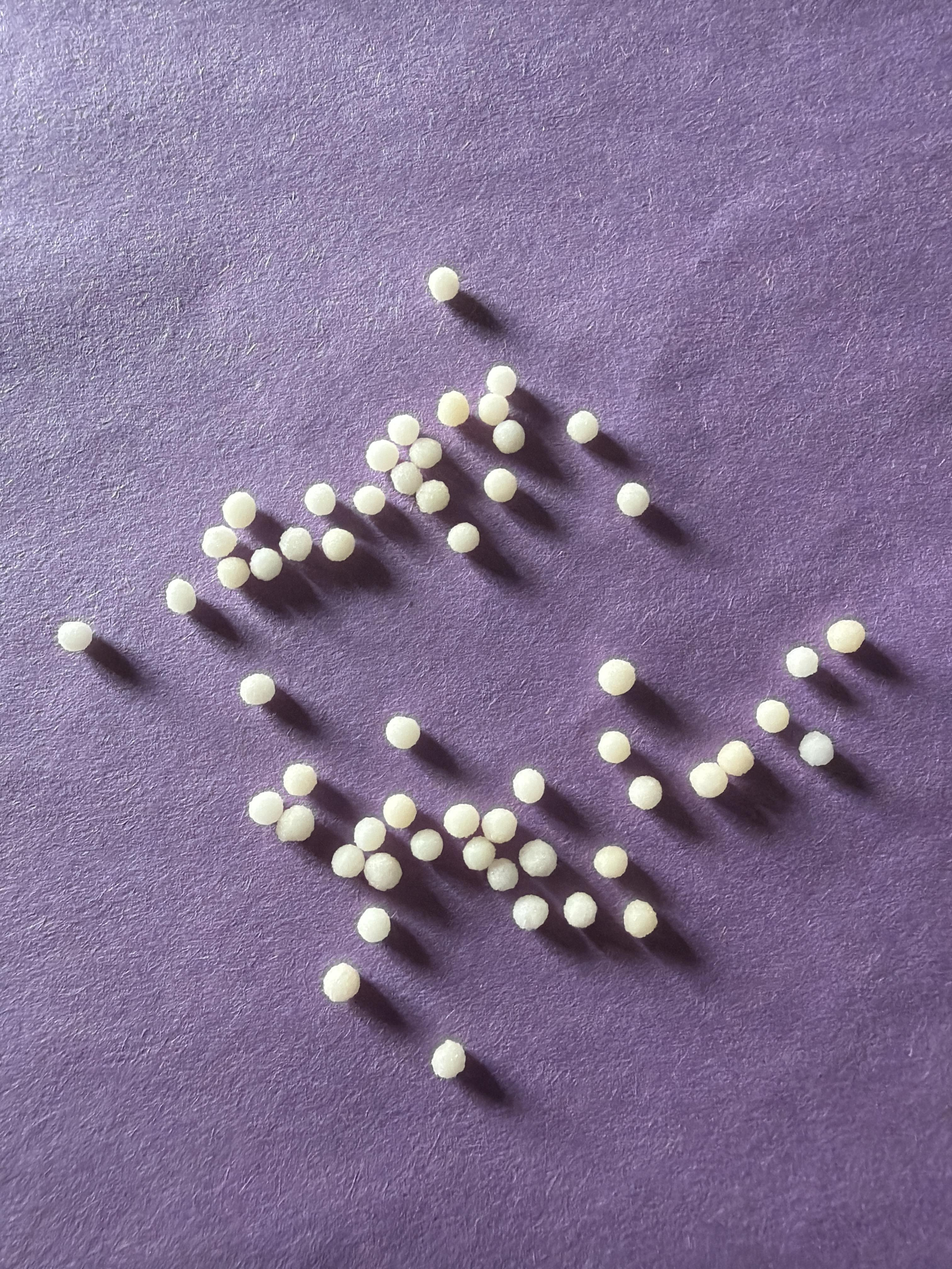pill: (364, 851, 402, 891), (518, 839, 557, 877), (275, 804, 314, 842), (323, 962, 360, 1002), (598, 658, 636, 696), (688, 762, 728, 798), (716, 740, 754, 776), (623, 900, 658, 938), (826, 619, 865, 653), (431, 1040, 465, 1079), (443, 803, 480, 838), (481, 808, 517, 843), (799, 731, 834, 767), (222, 491, 256, 528), (320, 527, 355, 562), (483, 468, 518, 503), (563, 892, 597, 928), (385, 716, 421, 750), (248, 791, 284, 825), (616, 482, 650, 517), (331, 843, 365, 878), (513, 896, 548, 930), (382, 793, 416, 828), (755, 699, 790, 733), (593, 845, 629, 878), (512, 768, 545, 804), (201, 525, 237, 558), (239, 673, 275, 706), (357, 907, 390, 943), (437, 390, 469, 427), (462, 837, 496, 871), (249, 547, 283, 581), (279, 527, 313, 561), (628, 776, 662, 810), (427, 266, 459, 302), (598, 730, 631, 764), (283, 764, 317, 797), (390, 462, 423, 496), (416, 480, 450, 513), (216, 556, 250, 589), (354, 817, 386, 852), (493, 419, 525, 454), (57, 621, 93, 652), (166, 578, 196, 615), (410, 829, 443, 862), (486, 857, 518, 891), (566, 410, 598, 443), (387, 414, 420, 446), (409, 437, 442, 469), (366, 440, 399, 472), (304, 483, 336, 516), (785, 647, 819, 678), (477, 392, 508, 426), (447, 522, 480, 553), (486, 364, 517, 397), (353, 485, 386, 515)
